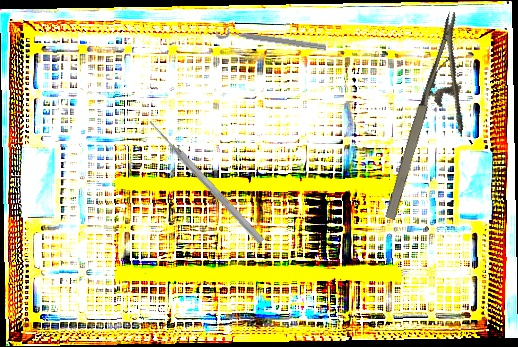Fixation Ring: (215, 19, 328, 54)
Needle Holder: (379, 10, 498, 232)
Pusher: (146, 117, 266, 246)
